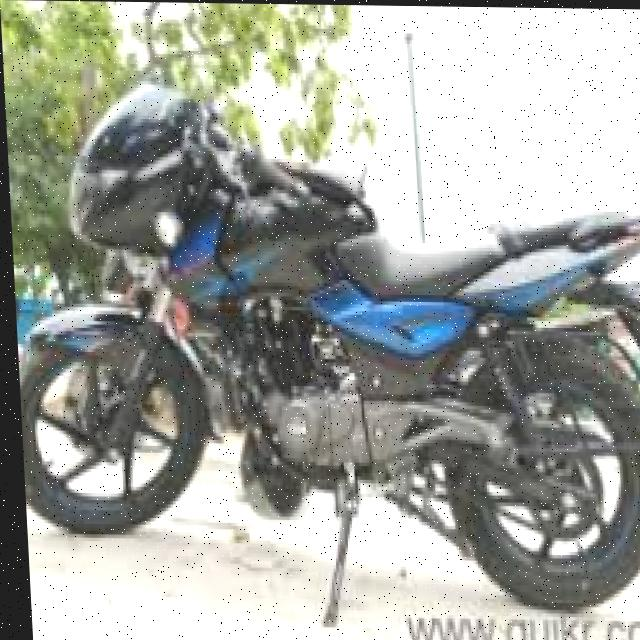bike: (3, 72, 640, 620)
